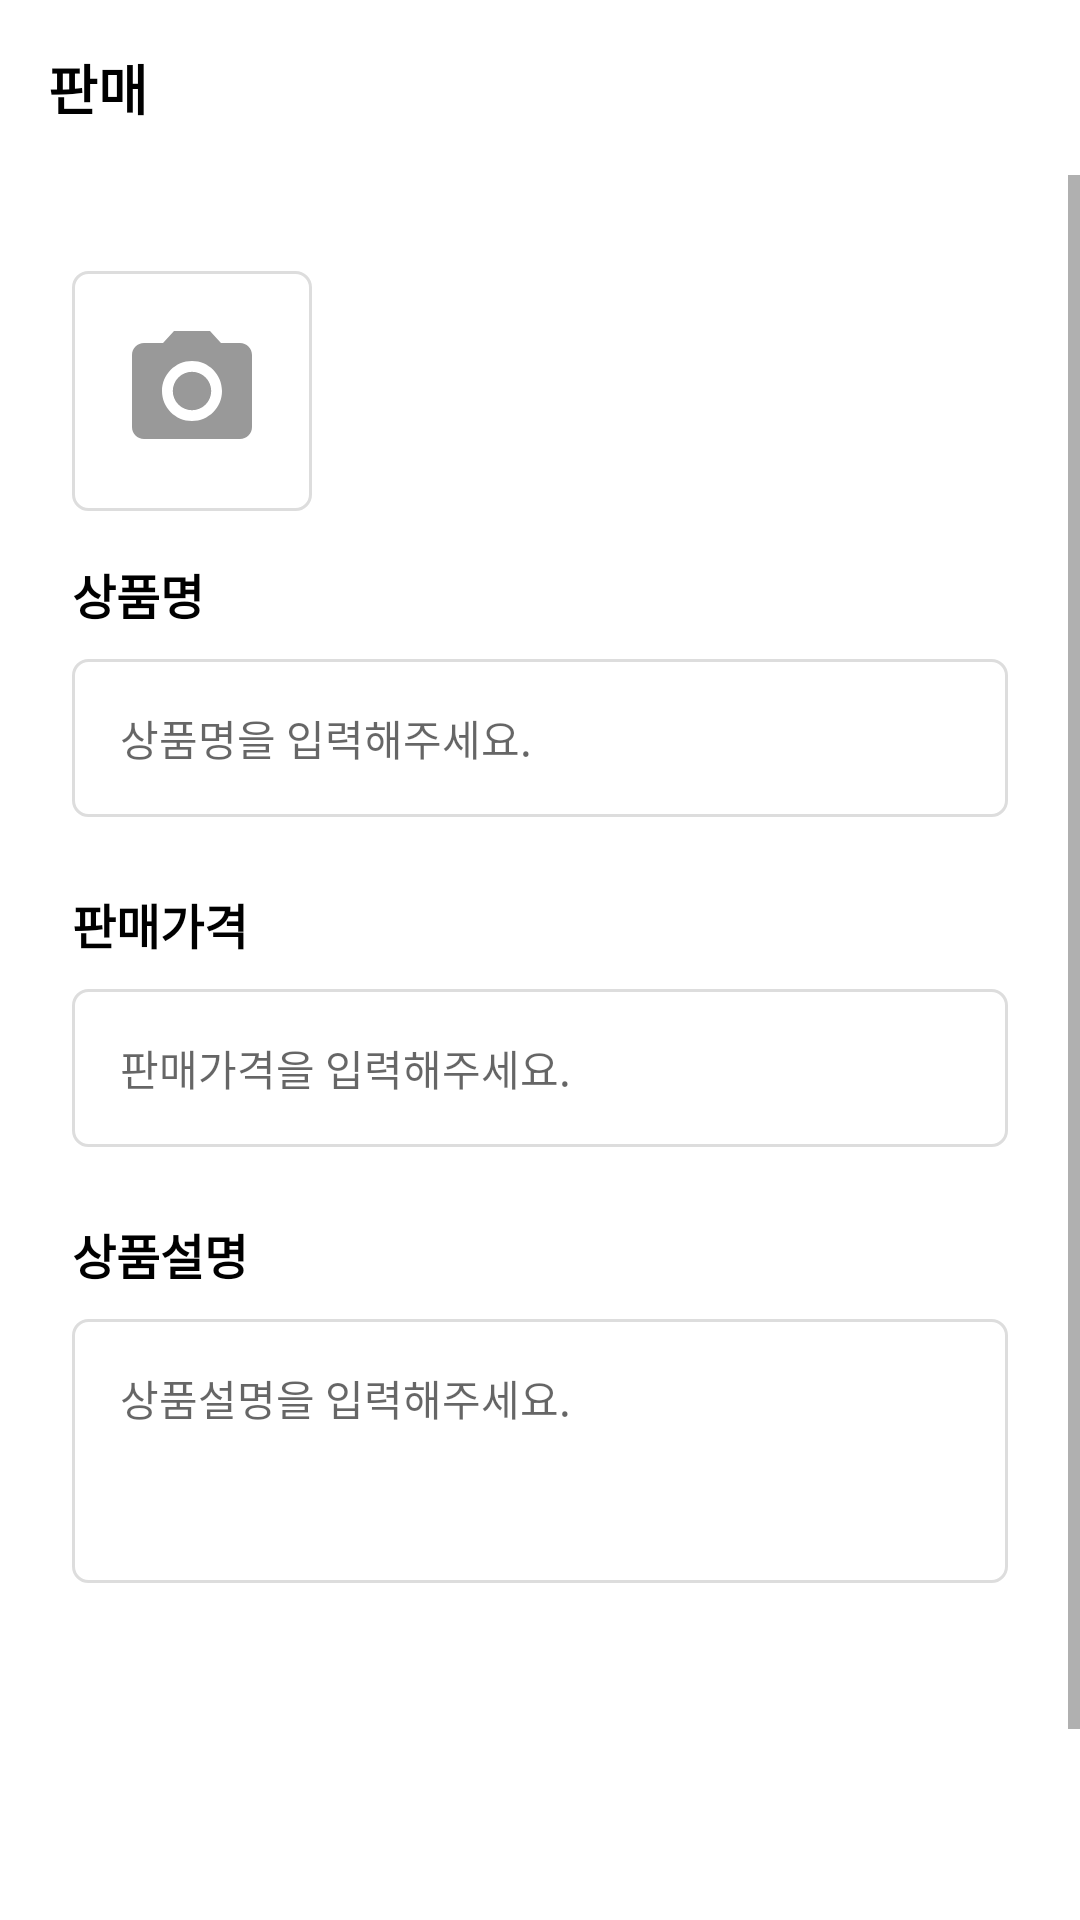

Icons on this 1080 × 1920 Android screen, each with its box as (x1, y1, x2, y2):
photo camera: (132, 331, 252, 439)
